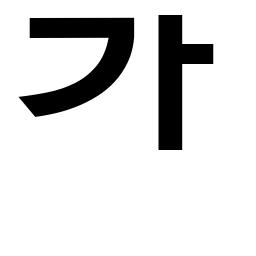Gaji: (147, 33, 199, 84)
